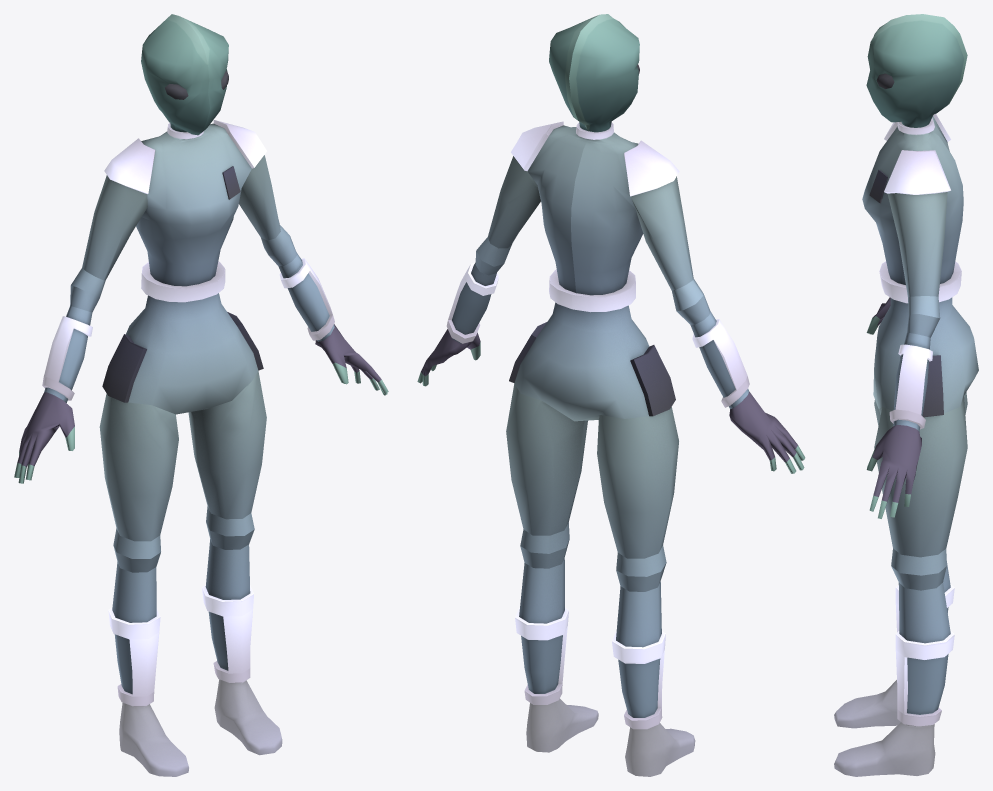
Rendered from Character_Model.fbx.
The picture shows the model from 3 angles, left to right: view 1: azimuth 30°, elevation 25°; view 2: azimuth 150°, elevation 25°; view 3: azimuth 270°, elevation 25°; orthographic projection. The views are drawn at different scales.
Visible parts, largest first — view 1: Alien_Character; view 2: Alien_Character; view 3: Alien_Character.
Part boxes in pixels (x1,y1,x2,y2): Alien_Character: (14, 14, 388, 776); Alien_Character: (417, 14, 805, 776); Alien_Character: (834, 14, 978, 776).
Bounding box in the file's own units: 5.83 × 10.82 × 1.95.
